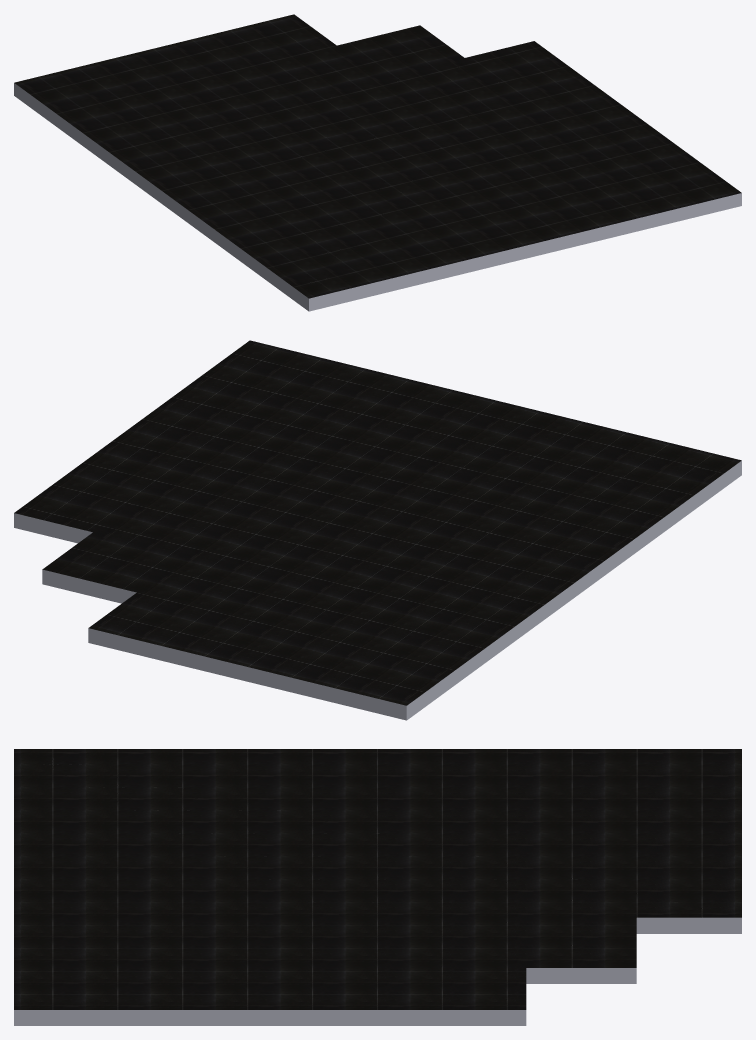
File: piso2.obj
The picture shows the model from 3 angles, top to bottom: view 1: azimuth 30°, elevation 25°; view 2: azimuth 150°, elevation 25°; view 3: azimuth 270°, elevation 25°; orthographic projection. The views are drawn at different scales.
Visible parts, largest first — view 1: piso2:pCube7; view 2: piso2:pCube7; view 3: piso2:pCube7.
Part boxes in pixels (x1=…): piso2:pCube7: x1=14, y1=14, x2=741, y2=311; piso2:pCube7: x1=14, y1=340, x2=741, y2=720; piso2:pCube7: x1=14, y1=749, x2=741, y2=1025.
Size of the model in its own units: 9.21 by 0.2648 by 10.87.
Materials: 2 (2 with a texture image).
